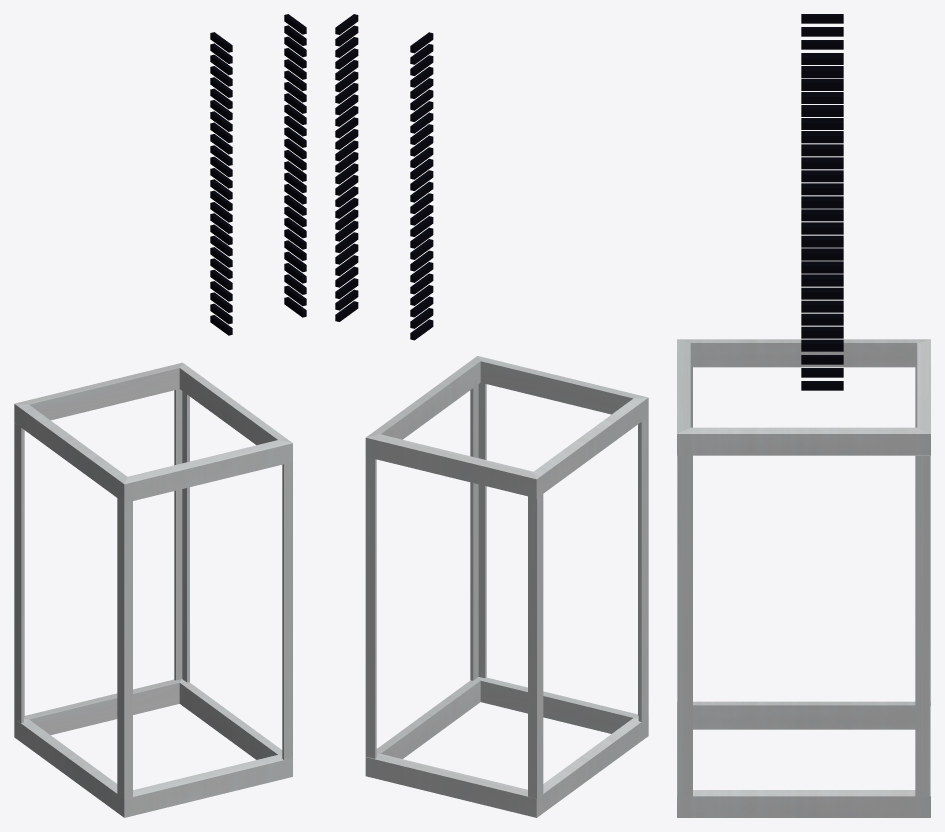
The model's file is rackcenter.fbx.
The picture shows the model from 3 angles, left to right: view 1: azimuth 30°, elevation 25°; view 2: azimuth 150°, elevation 25°; view 3: azimuth 270°, elevation 25°; orthographic projection. The views are drawn at different scales.
Visible parts, largest first — view 1: Cube.009, Cube.053; view 2: Cube.009, Cube.053; view 3: Cube.009, Cube.053.
Part boxes in pixels (<box>): Cube.009: <box>14,362,292,817</box>; Cube.053: <box>284,14,306,317</box>; Cube.009: <box>365,356,648,817</box>; Cube.053: <box>335,14,358,321</box>; Cube.009: <box>677,339,930,817</box>; Cube.053: <box>801,55,843,390</box>.
Bounding box in the file's own units: 149 × 417 × 120.
2 materials, 1 textured.
